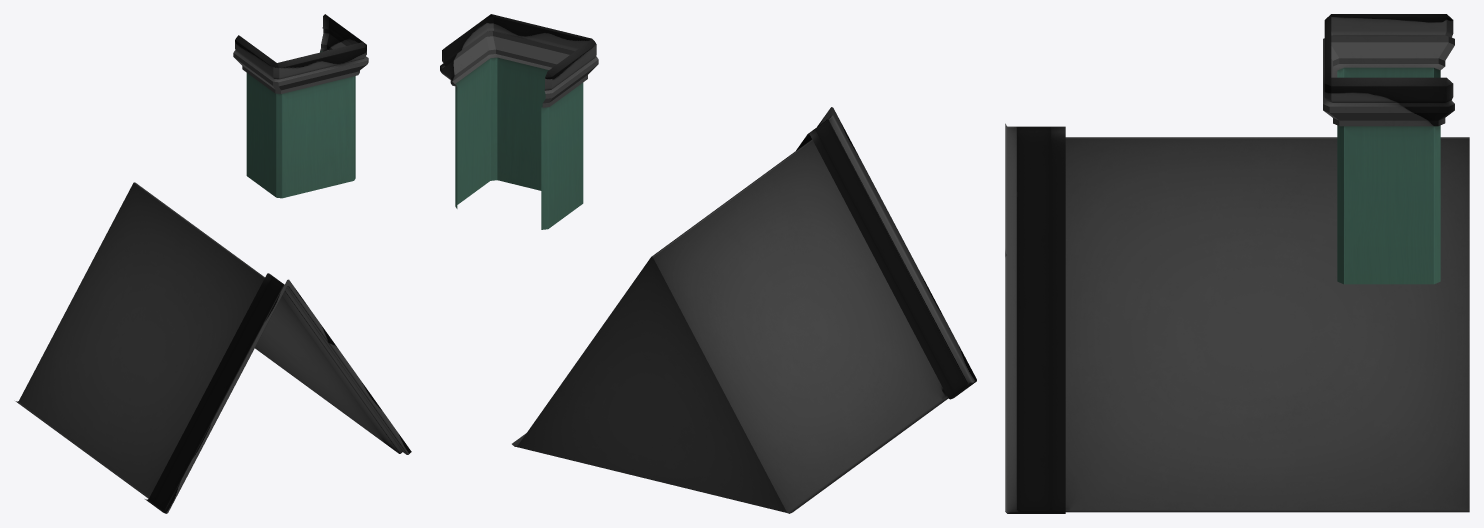
The model's file is ChristmasRoom_WallIvory.fbx.
The picture shows the model from 3 angles, left to right: view 1: azimuth 30°, elevation 25°; view 2: azimuth 150°, elevation 25°; view 3: azimuth 270°, elevation 25°; orthographic projection. The views are drawn at different scales.
Parts seen in each view (by area): view 1: ChristmasRoom_WallIvory; view 2: ChristmasRoom_WallIvory; view 3: ChristmasRoom_WallIvory.
Boxes of the visible parts, x1=… form: ChristmasRoom_WallIvory: x1=15, y1=14, x2=411, y2=513; ChristmasRoom_WallIvory: x1=440, y1=14, x2=976, y2=513; ChristmasRoom_WallIvory: x1=1005, y1=14, x2=1469, y2=513.
Size of the model in its own units: 383 by 375 by 327.
